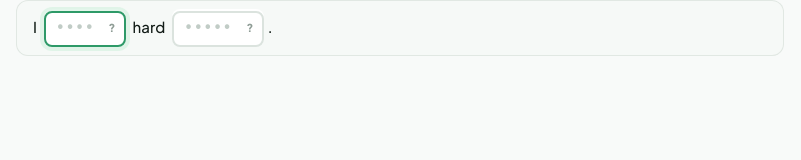
Test: FillInBlanksDictation › moves focus to the next editable blank when a word becomes correct without locking it
In the field named "Blank 1": (85, 29) top-left (44, 11), bottom-right (126, 47), type "wor"
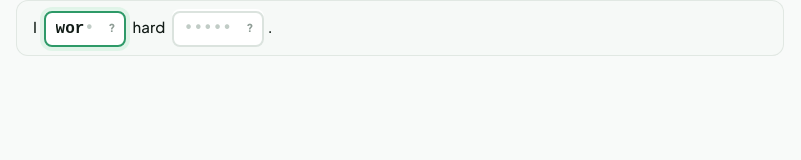
Replace the text in the field named "Blank 1" with "work": (85, 29) top-left (44, 11), bottom-right (126, 47)
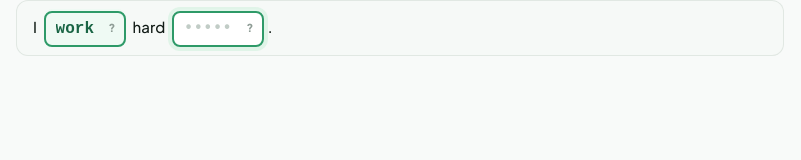
Now the field named "Blank 1" has class "border-brand-500", box top-left (44, 11), bottom-right (126, 47)
